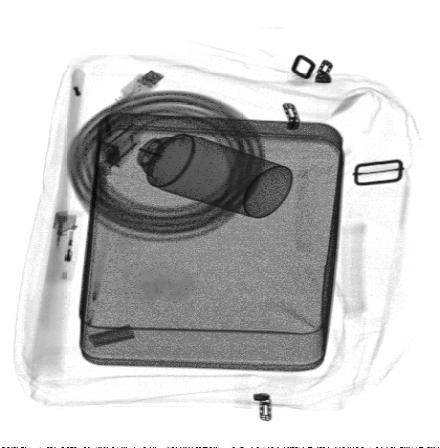Lighter: (96, 106, 165, 172)
Sprayer: (105, 113, 294, 218)
